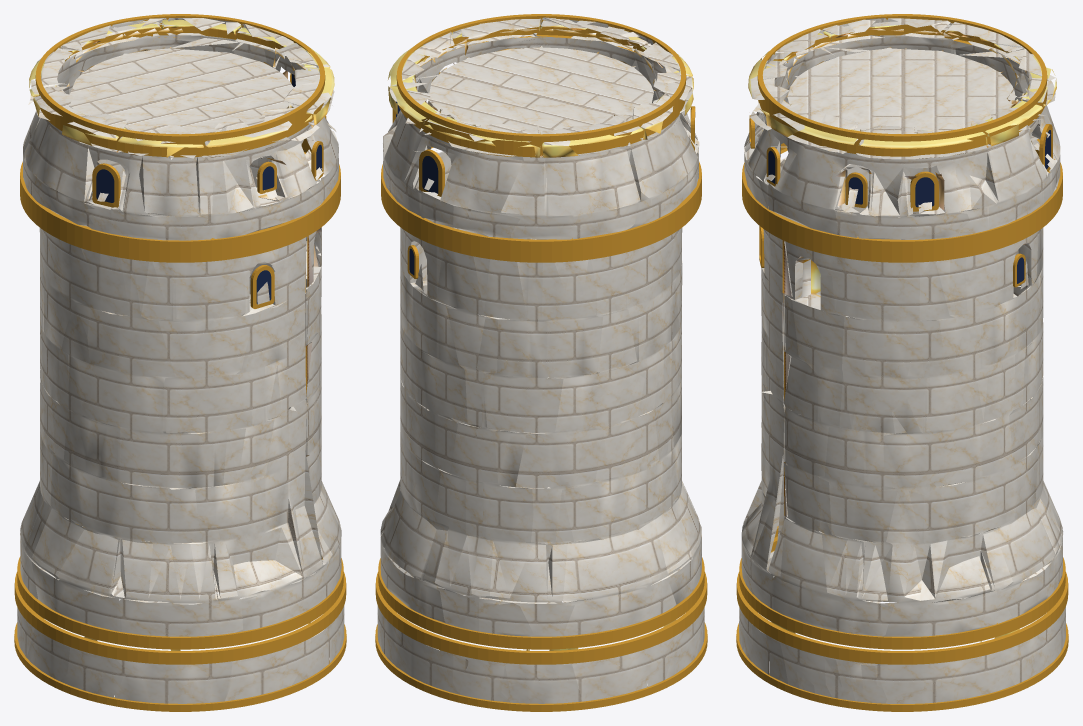
File: HaloPart_GateTowerL_trim.glb
3 views of the same model, side by side, from view 1: azimuth 30°, elevation 25°; view 2: azimuth 150°, elevation 25°; view 3: azimuth 270°, elevation 25° (orthographic).
Parts seen in each view (by area): view 1: HaloPart_GateTowerL_Stone, HaloPart_GateTowerL_Gold, HaloPart_GateTowerL_Trim, HaloPart_GateTowerL_Glass; view 2: HaloPart_GateTowerL_Stone, HaloPart_GateTowerL_Gold, HaloPart_GateTowerL_Trim, HaloPart_GateTowerL_Glass; view 3: HaloPart_GateTowerL_Stone, HaloPart_GateTowerL_Gold, HaloPart_GateTowerL_Trim, HaloPart_GateTowerL_Glass.
Part boxes in pixels (<box>): HaloPart_GateTowerL_Stone: <box>17,18,344,703</box>; HaloPart_GateTowerL_Gold: <box>14,14,346,711</box>; HaloPart_GateTowerL_Trim: <box>29,19,334,650</box>; HaloPart_GateTowerL_Glass: <box>96,74,321,304</box>; HaloPart_GateTowerL_Stone: <box>377,17,704,703</box>; HaloPart_GateTowerL_Gold: <box>375,14,707,711</box>; HaloPart_GateTowerL_Trim: <box>388,22,693,650</box>; HaloPart_GateTowerL_Glass: <box>396,102,438,275</box>; HaloPart_GateTowerL_Stone: <box>739,18,1065,703</box>; HaloPart_GateTowerL_Gold: <box>736,14,1068,711</box>; HaloPart_GateTowerL_Trim: <box>748,25,1056,642</box>; HaloPart_GateTowerL_Glass: <box>768,59,1050,283</box>.
Bounding box in the file's own units: 0.5231 × 0.9846 × 0.5231.
Materials: 4 (4 with a texture image).
